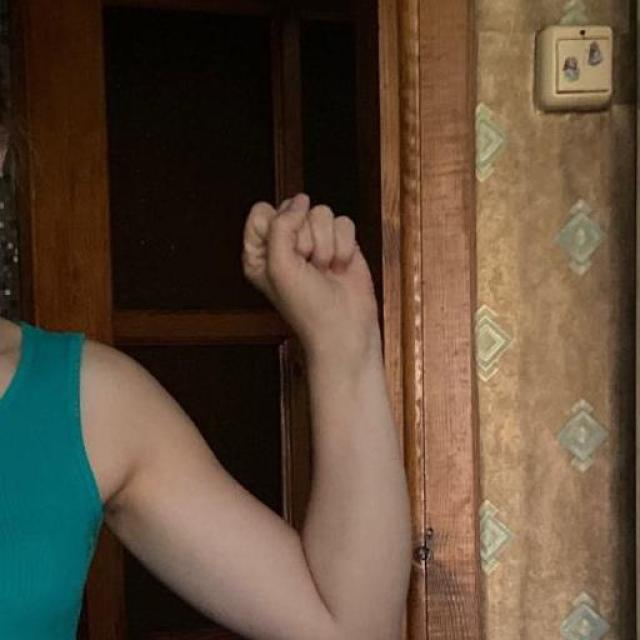hand: (240, 191, 384, 364)
